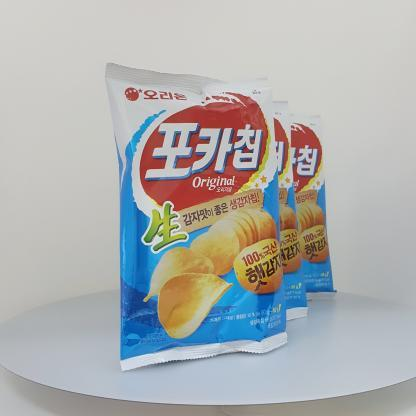Plastic Packaging: (98, 49, 346, 379)
